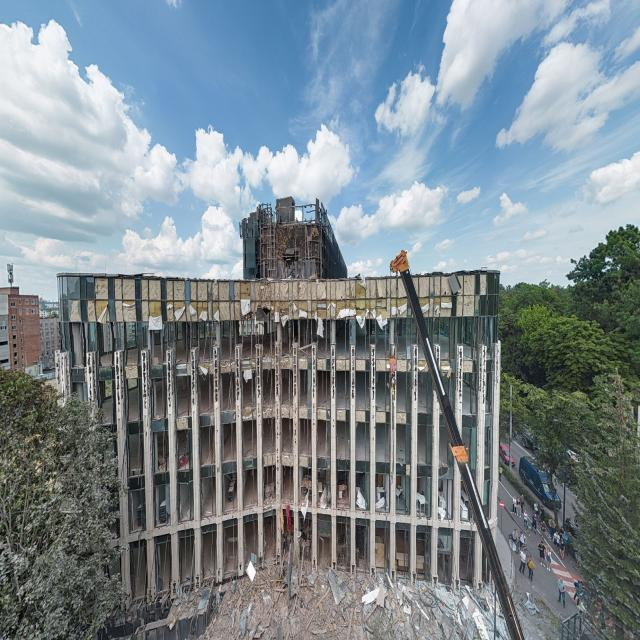building: (54, 266, 502, 632), (0, 286, 42, 374)
